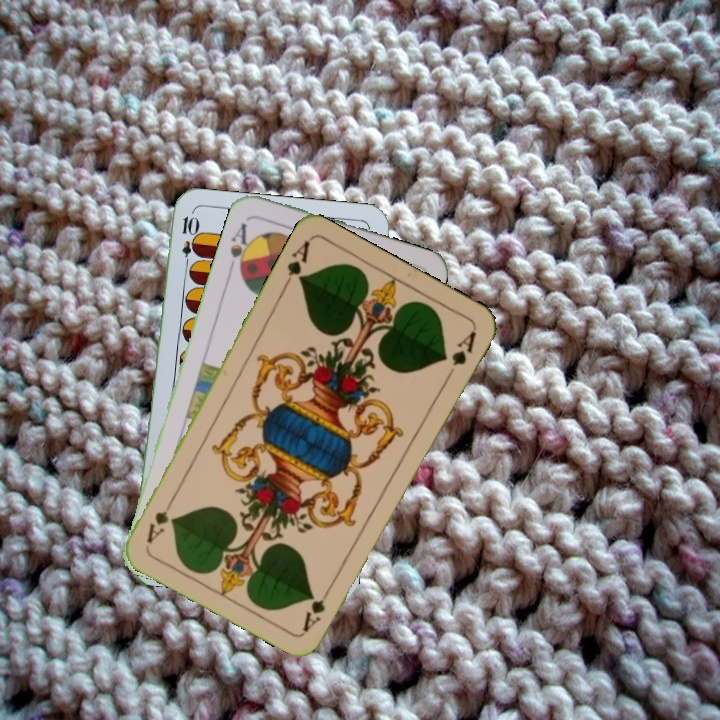E10: (177, 212, 198, 271)
GA: (298, 580, 336, 635), (278, 236, 313, 292)
SA: (225, 219, 256, 276)
